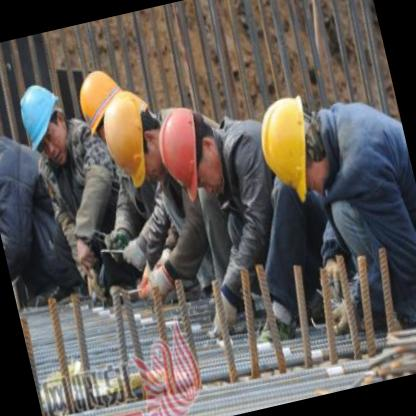helmet: (251, 91, 332, 202), (97, 84, 173, 191), (148, 101, 228, 202), (74, 63, 139, 170), (11, 76, 79, 172)
